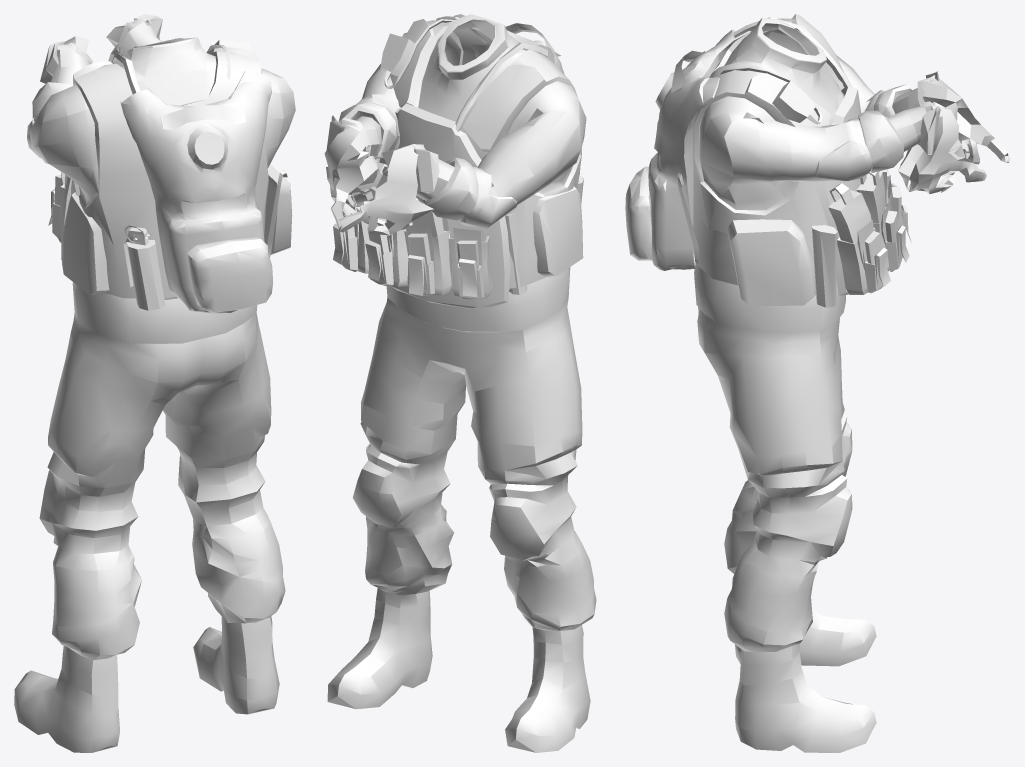
The model's file is stf_eagle.glb.
3 renders of one model, left to right at view 1: azimuth 30°, elevation 25°; view 2: azimuth 150°, elevation 25°; view 3: azimuth 270°, elevation 25°, orthographic.
Visible parts, largest first — view 1: body_STF, gear_STF; view 2: body_STF, gear_STF; view 3: body_STF, gear_STF.
Boxes of the visible parts, x1,y1,x2,y2 form: body_STF: [14, 14, 295, 752]; gear_STF: [48, 40, 292, 313]; body_STF: [324, 14, 596, 752]; gear_STF: [333, 14, 583, 299]; body_STF: [687, 14, 1010, 752]; gear_STF: [625, 17, 911, 307].
Bounding box in the file's own units: 57.67 × 164 × 84.86.
Materials: 2 (2 with a texture image).
